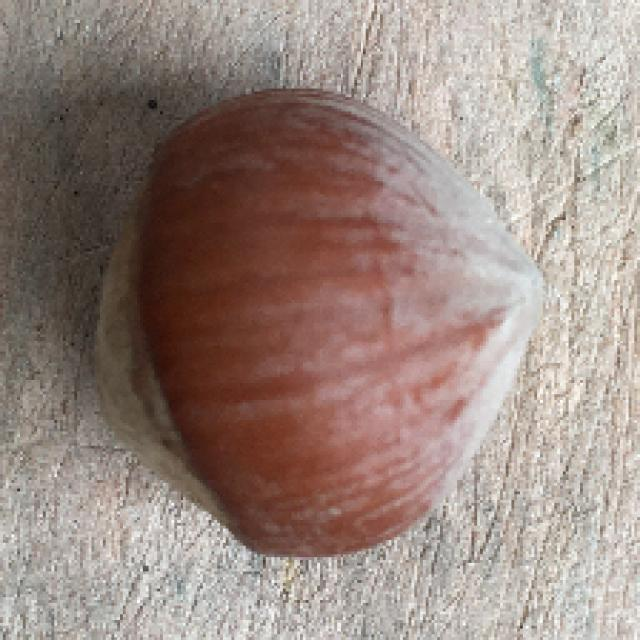qualityHazelnut: (73, 75, 542, 580)
